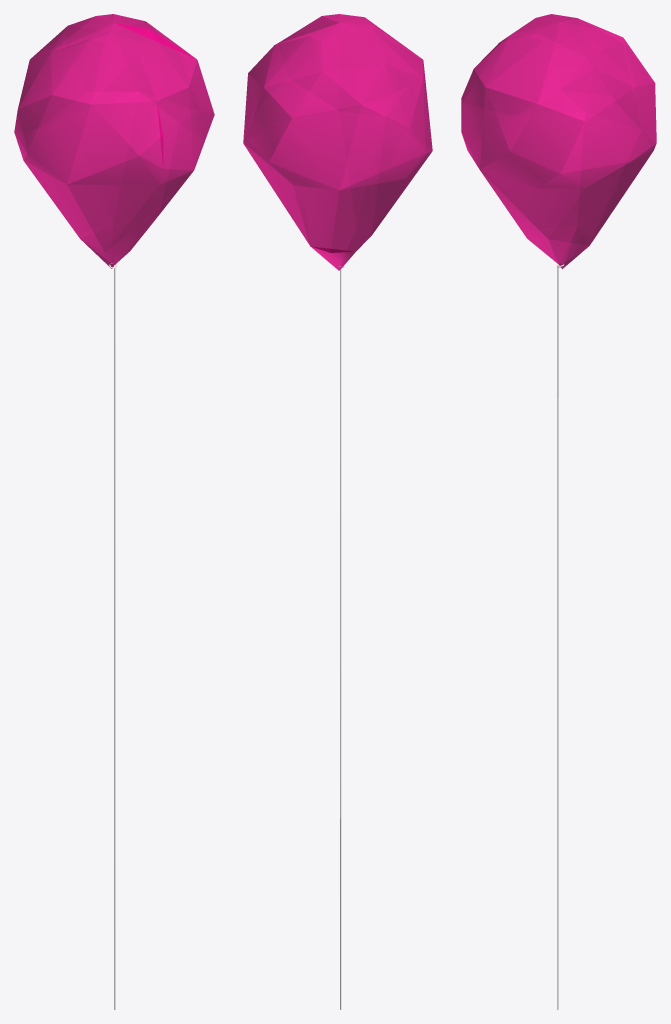
The model's file is balloon_LowPoly.FBX.
The picture shows the model from 3 angles, left to right: view 1: azimuth 30°, elevation 25°; view 2: azimuth 150°, elevation 25°; view 3: azimuth 270°, elevation 25°; orthographic projection.
Parts seen in each view (by area): view 1: balloon main, baloon string; view 2: balloon main, baloon string; view 3: balloon main, baloon string.
Part boxes in pixels (x1,y1,x2,y2): balloon main: (14, 14, 214, 268); baloon string: (109, 263, 117, 1009); balloon main: (243, 14, 432, 270); baloon string: (336, 265, 343, 1009); balloon main: (461, 14, 656, 268); baloon string: (557, 263, 564, 1009).
Size of the model in its own units: 27.73 by 152 by 27.26.
